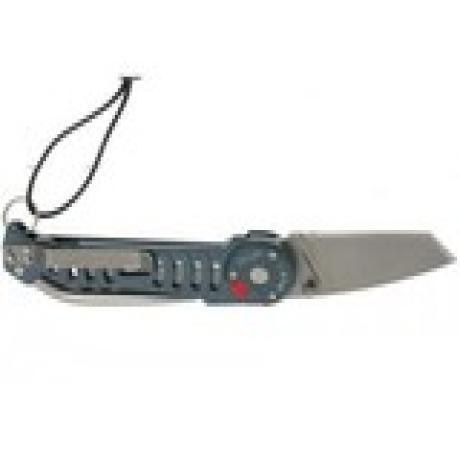weapon: (6, 223, 460, 310)
